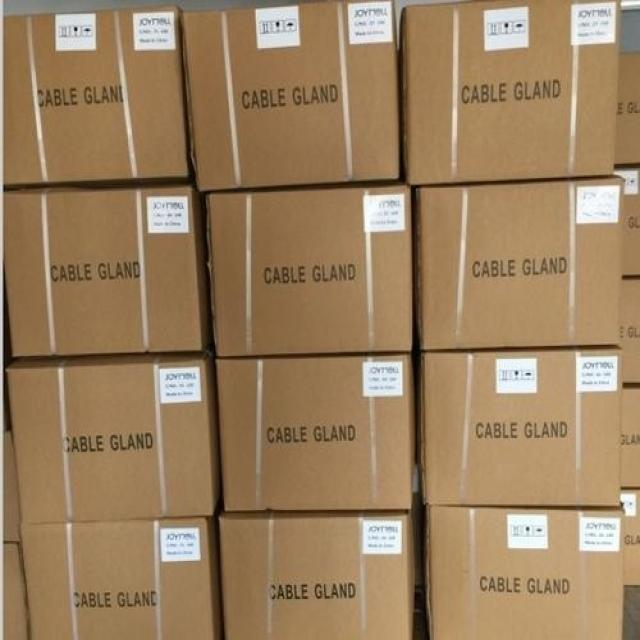box: (180, 0, 399, 192), (398, 0, 621, 188), (5, 348, 221, 524), (413, 174, 625, 352), (0, 184, 211, 357), (206, 184, 412, 357), (0, 6, 193, 186), (417, 346, 623, 506), (216, 352, 417, 513), (425, 507, 625, 640), (219, 509, 417, 640), (20, 514, 221, 640), (616, 165, 640, 275), (617, 52, 640, 164), (622, 278, 640, 384), (622, 386, 640, 489), (621, 490, 640, 585)
